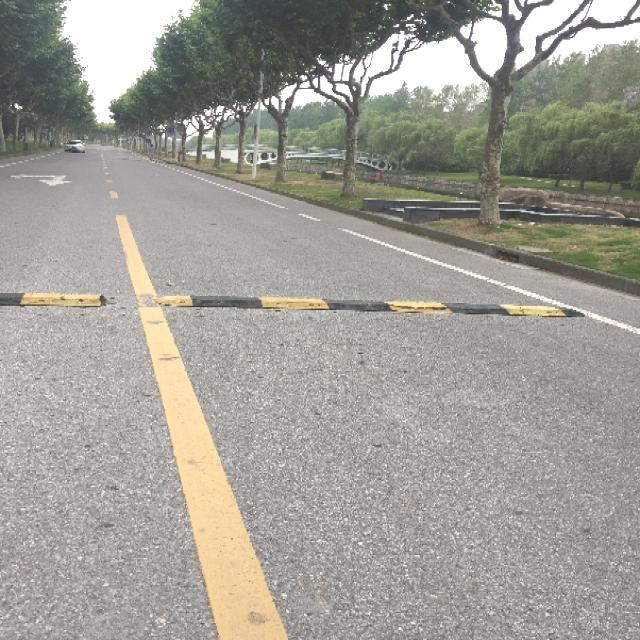Speed Bump: (1, 280, 587, 326)
